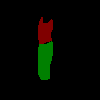canottiera: (38, 16, 52, 44)
jeans: (37, 40, 53, 80)
